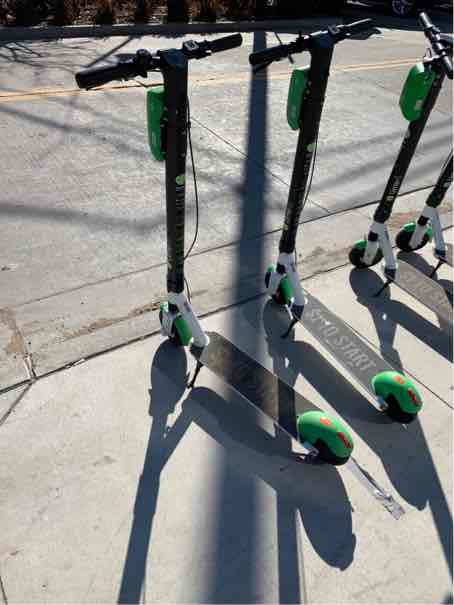scooter: (74, 27, 358, 463), (248, 18, 429, 425)
